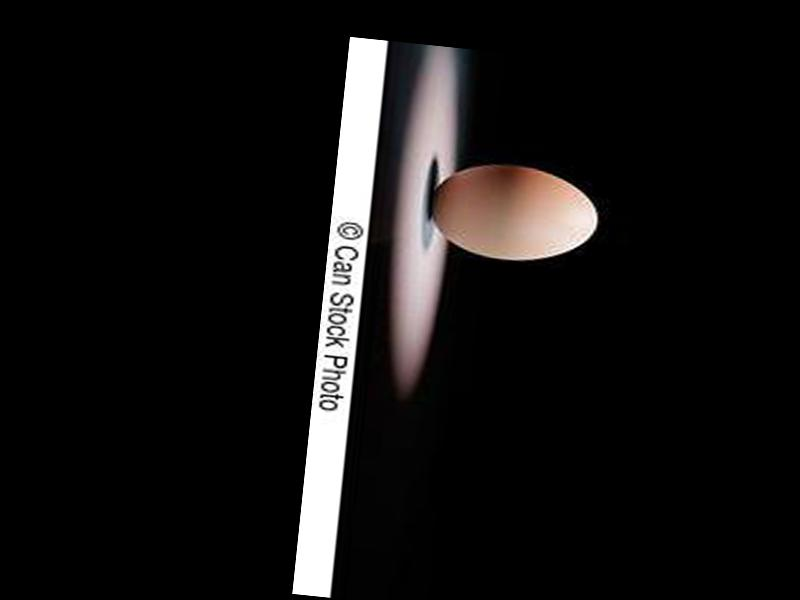Eggs: (424, 154, 601, 268)
